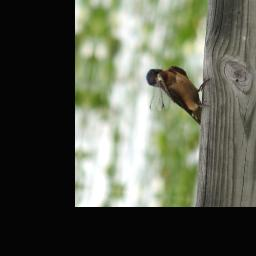Swallow: (140, 62, 217, 126)
